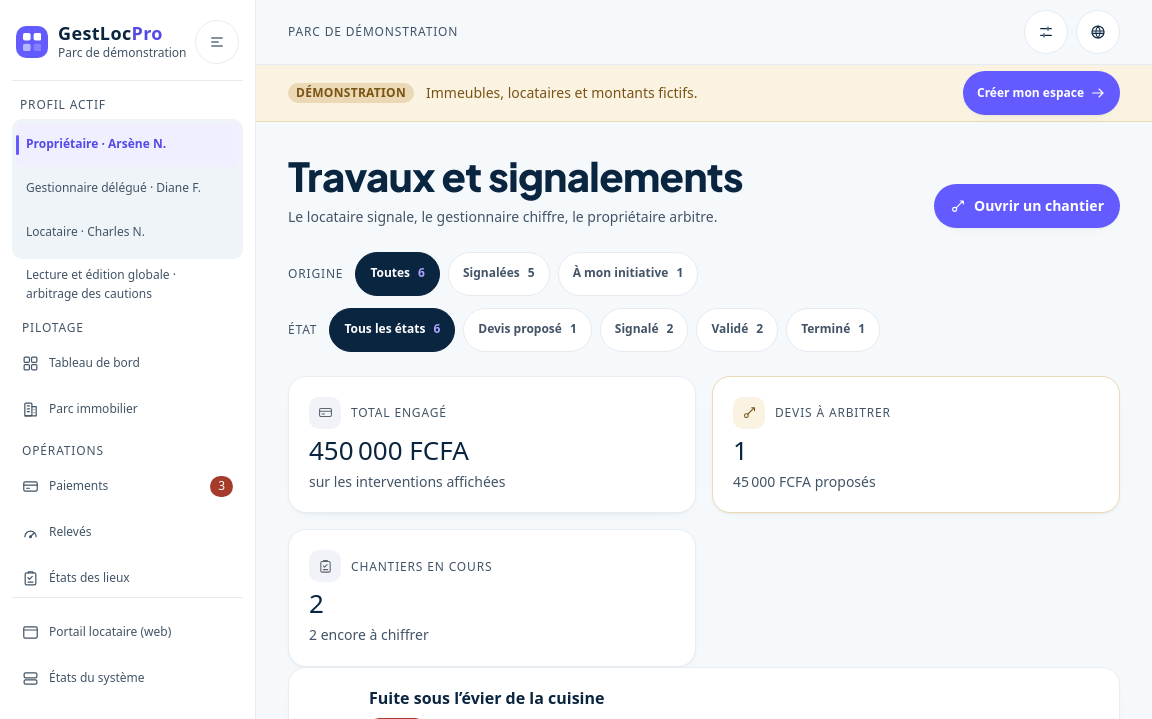
signalement par le locataire › lui offre le corps de métier que le locataire ne peut pas déclarer
Click the button "Ouvrir un chantier" at coordinates (1027, 206), box [934,184,1120,228]
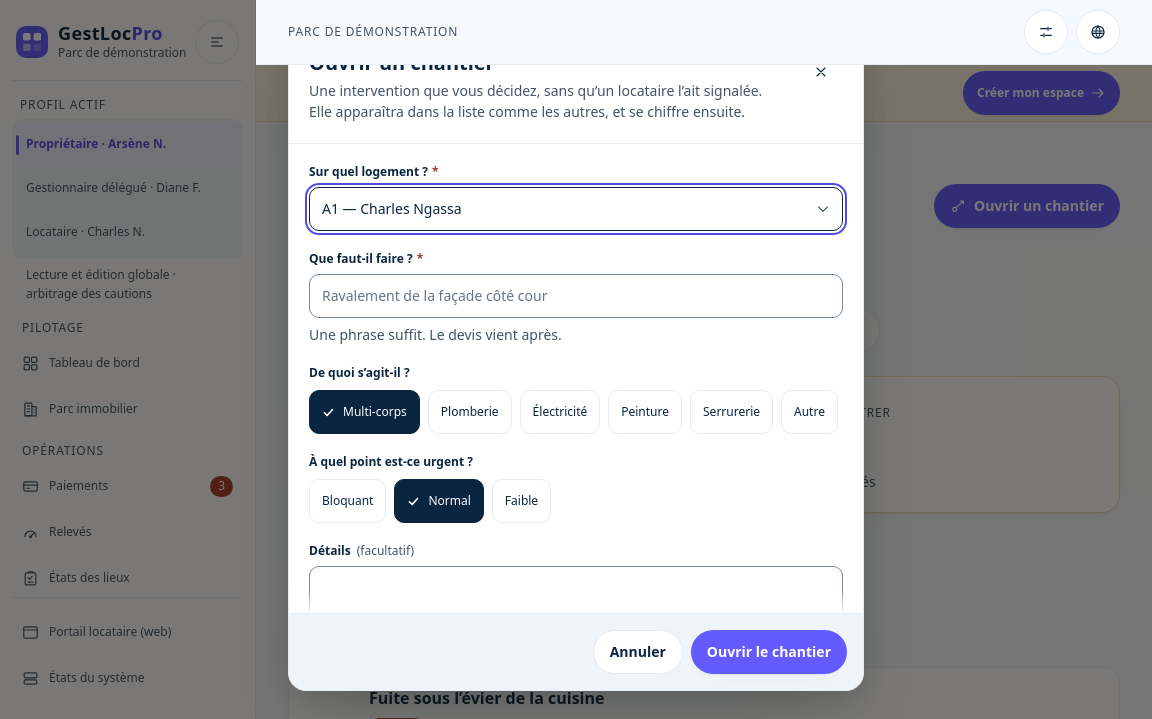
Check: the radio button labelled "Multi-corps" is shown, box [309,390,420,434]
Check: the dropdown is shown, box [309,187,843,231]
